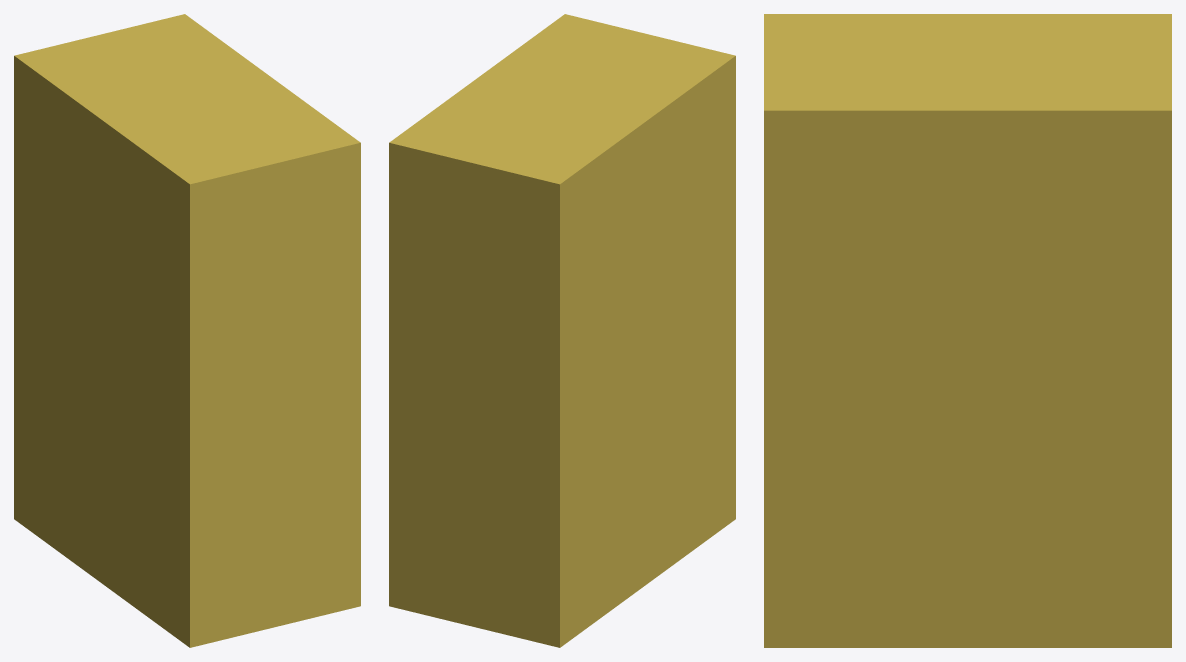
3 renders of one model, left to right at view 1: azimuth 30°, elevation 25°; view 2: azimuth 150°, elevation 25°; view 3: azimuth 270°, elevation 25°, orthographic. The views are drawn at different scales.
Visible parts, largest first — view 1: world; view 2: world; view 3: world.
Part boxes in pixels (x1,y1,x2,y2): world: [14, 14, 360, 647]; world: [389, 14, 735, 647]; world: [764, 14, 1171, 647].
Bounding box in the file's own units: 0.0092 × 0.0238 × 0.0164.
